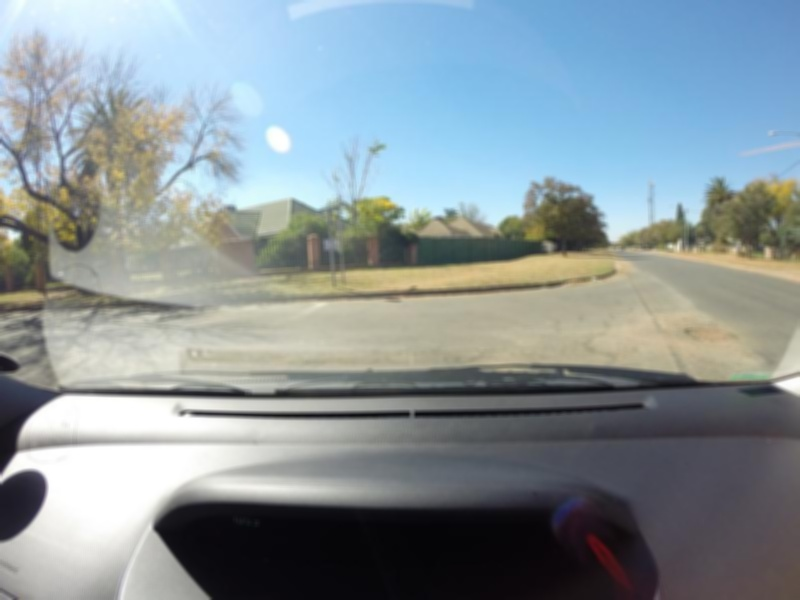pothole: (681, 314, 751, 345)
